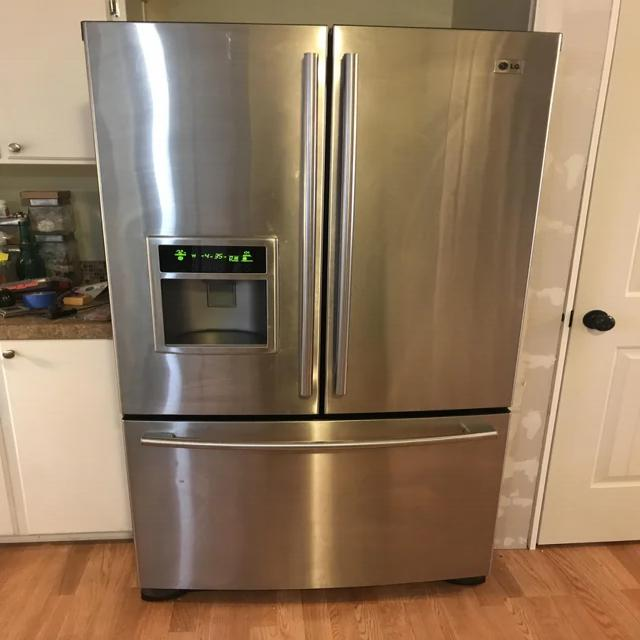refrigerator: (80, 18, 563, 592)
